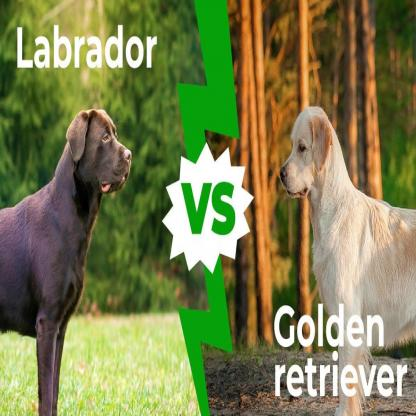Labarador Retriever: (282, 109, 416, 415), (0, 106, 134, 410)
